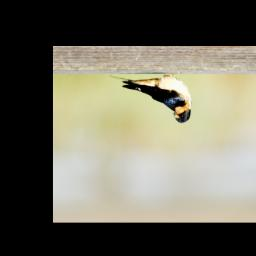Swallow: (109, 70, 192, 124)
